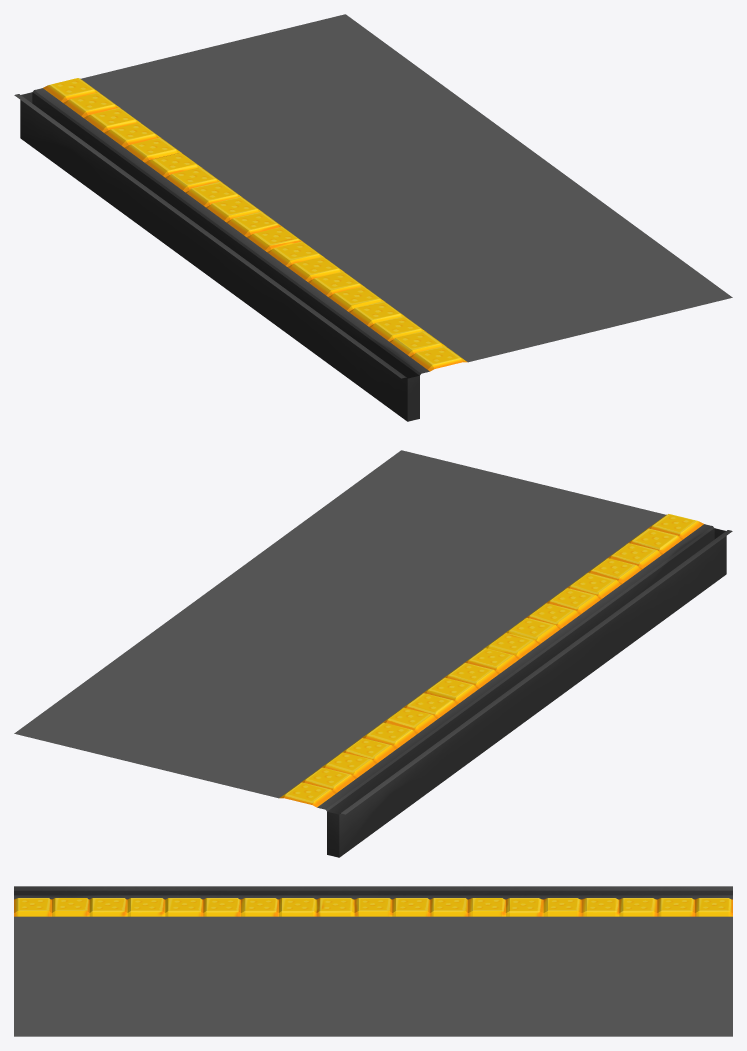
Rendered from Plataforma.fbx.
3 renders of one model, top to bottom at view 1: azimuth 30°, elevation 25°; view 2: azimuth 150°, elevation 25°; view 3: azimuth 270°, elevation 25°, orthographic. The views are drawn at different scales.
Parts seen in each view (by area): view 1: Plane; view 2: Plane; view 3: Plane.
Part boxes in pixels (box(x1,y1,x2,y2)): Plane: box(14, 14, 732, 421); Plane: box(14, 450, 732, 857); Plane: box(14, 886, 732, 1036).
Size of the model in its own units: 884 by 124 by 1789.
